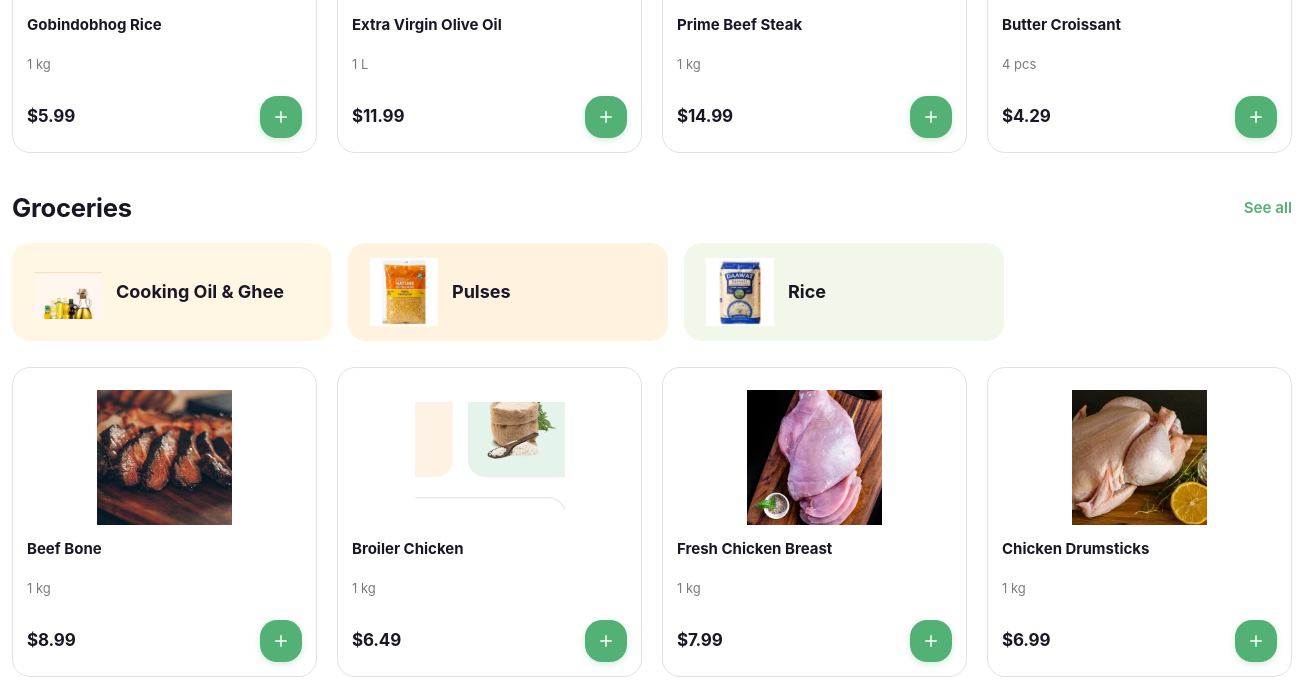
HomePage Professional UI & Carousel › filters grocery products to Rice when Rice chip is clicked
The width and height of the screenshot is (1304, 692).
(page scrolled)
Click the button with aria-label "filter by rice": (740, 292) [684, 243, 1004, 341]
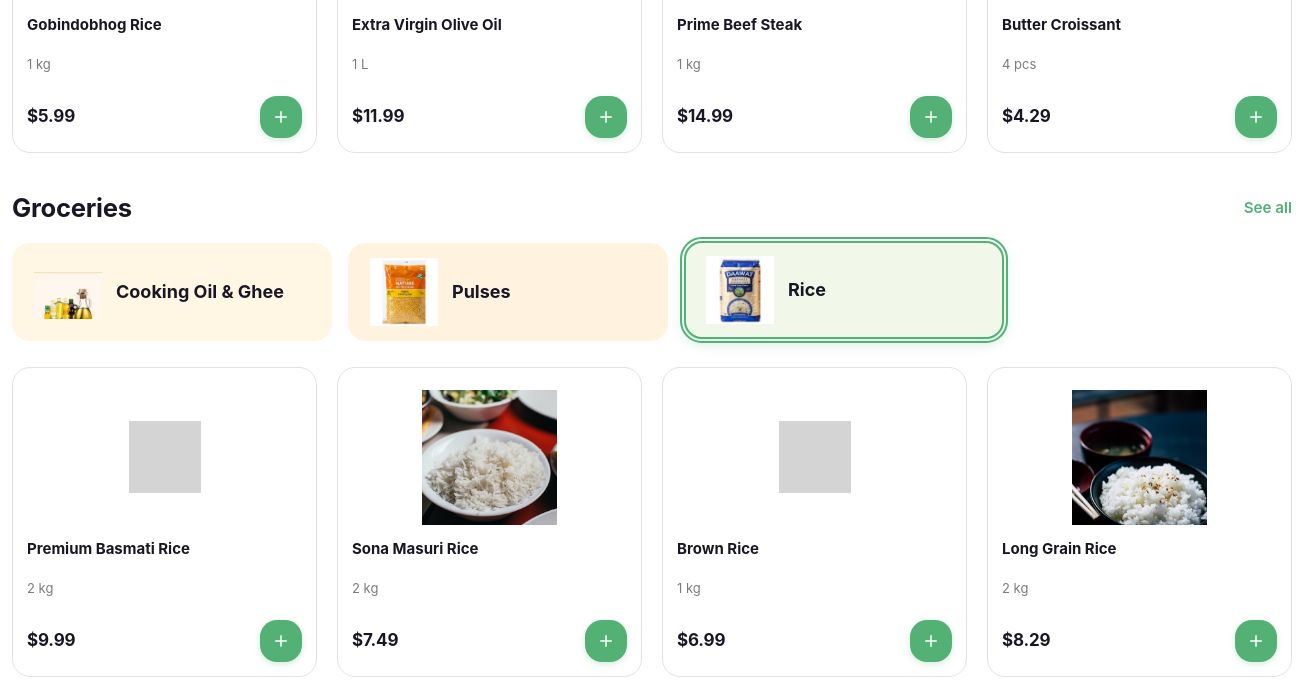
Now the heading "Premium Basmati Rice" is shown, box [27, 539, 190, 558]
Now the element with test id "product-card-prod-rice" is shown, box [12, 367, 317, 677]
